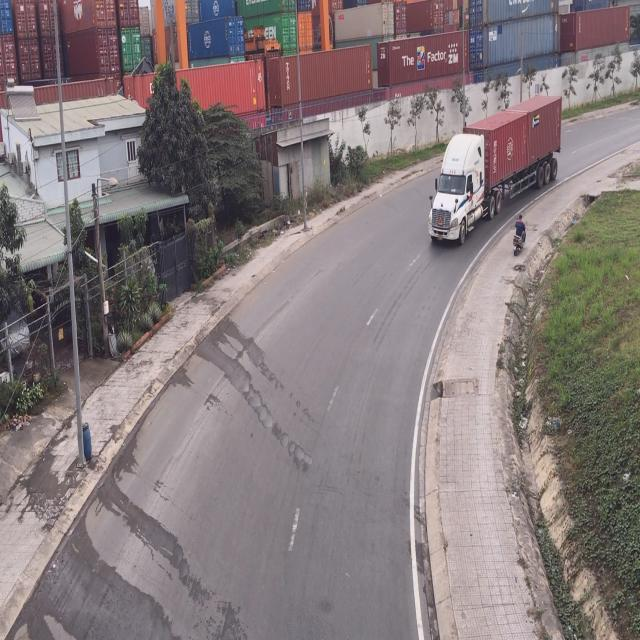motorbike: (513, 214, 528, 254)
truck: (428, 100, 562, 250)
